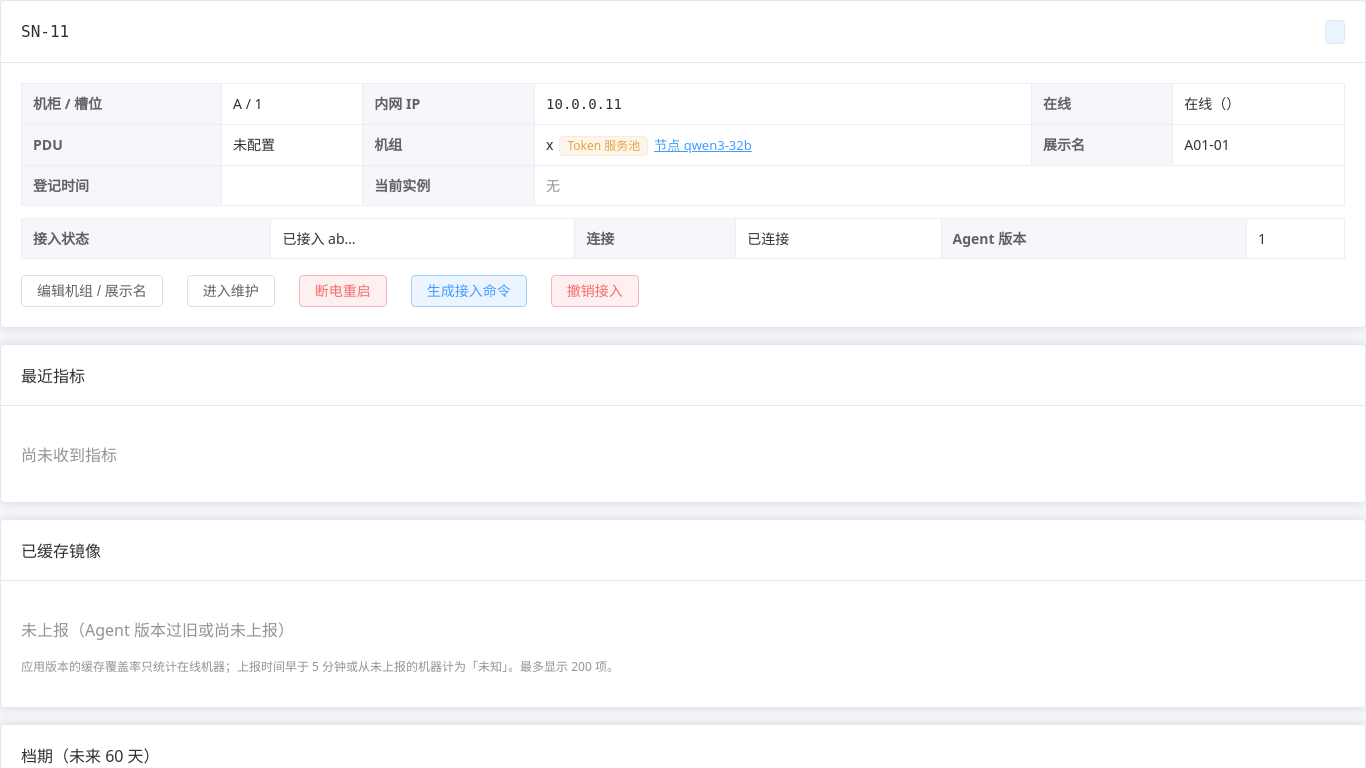
Scenario: 机器详情：Token 服务池 › 池内机器：标签 + 链接到本机节点；编辑时机组不可改并提示
Click the button "编辑机组 / 展示名" at (92, 291), box [21, 275, 163, 307]
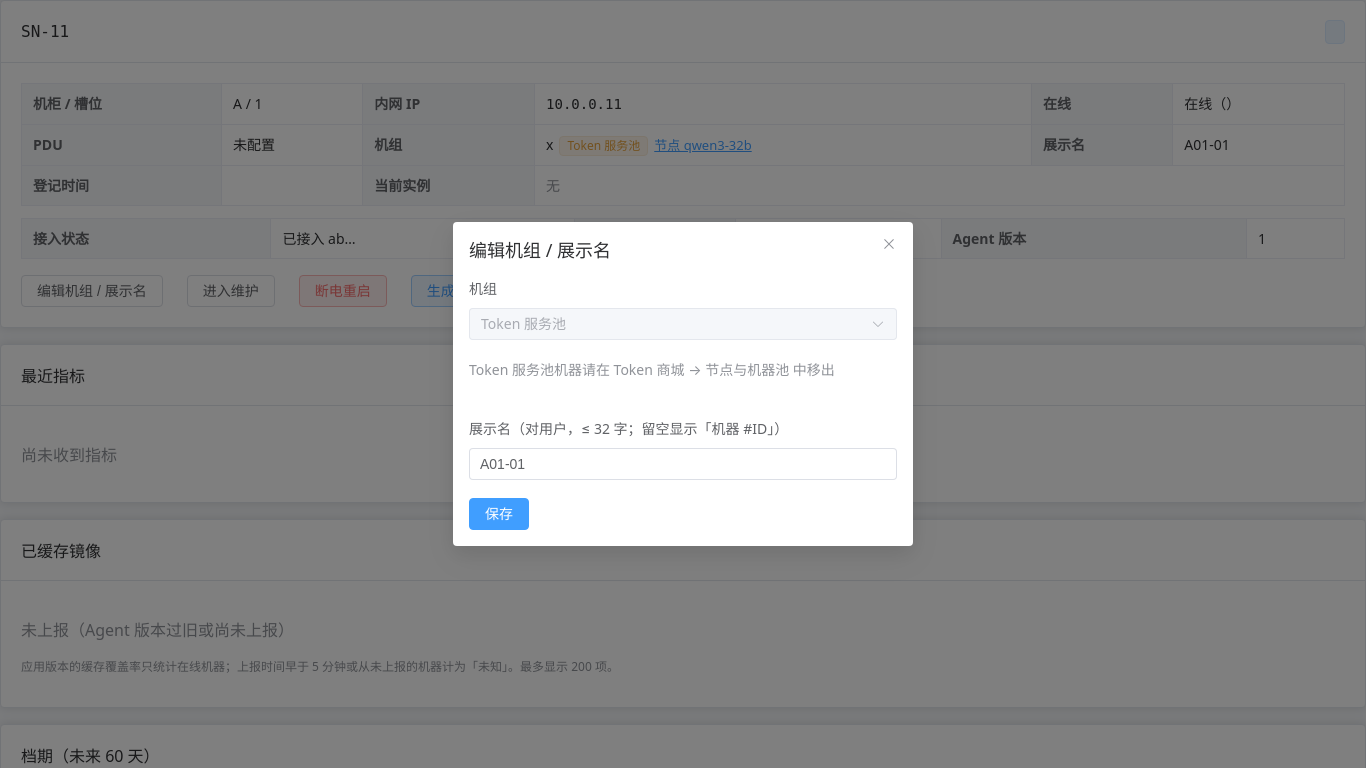
Expected: the text "Token 服务池机器请在 Token 商城 → 节点与机器池 中移出" is shown, [469, 360, 835, 379]
